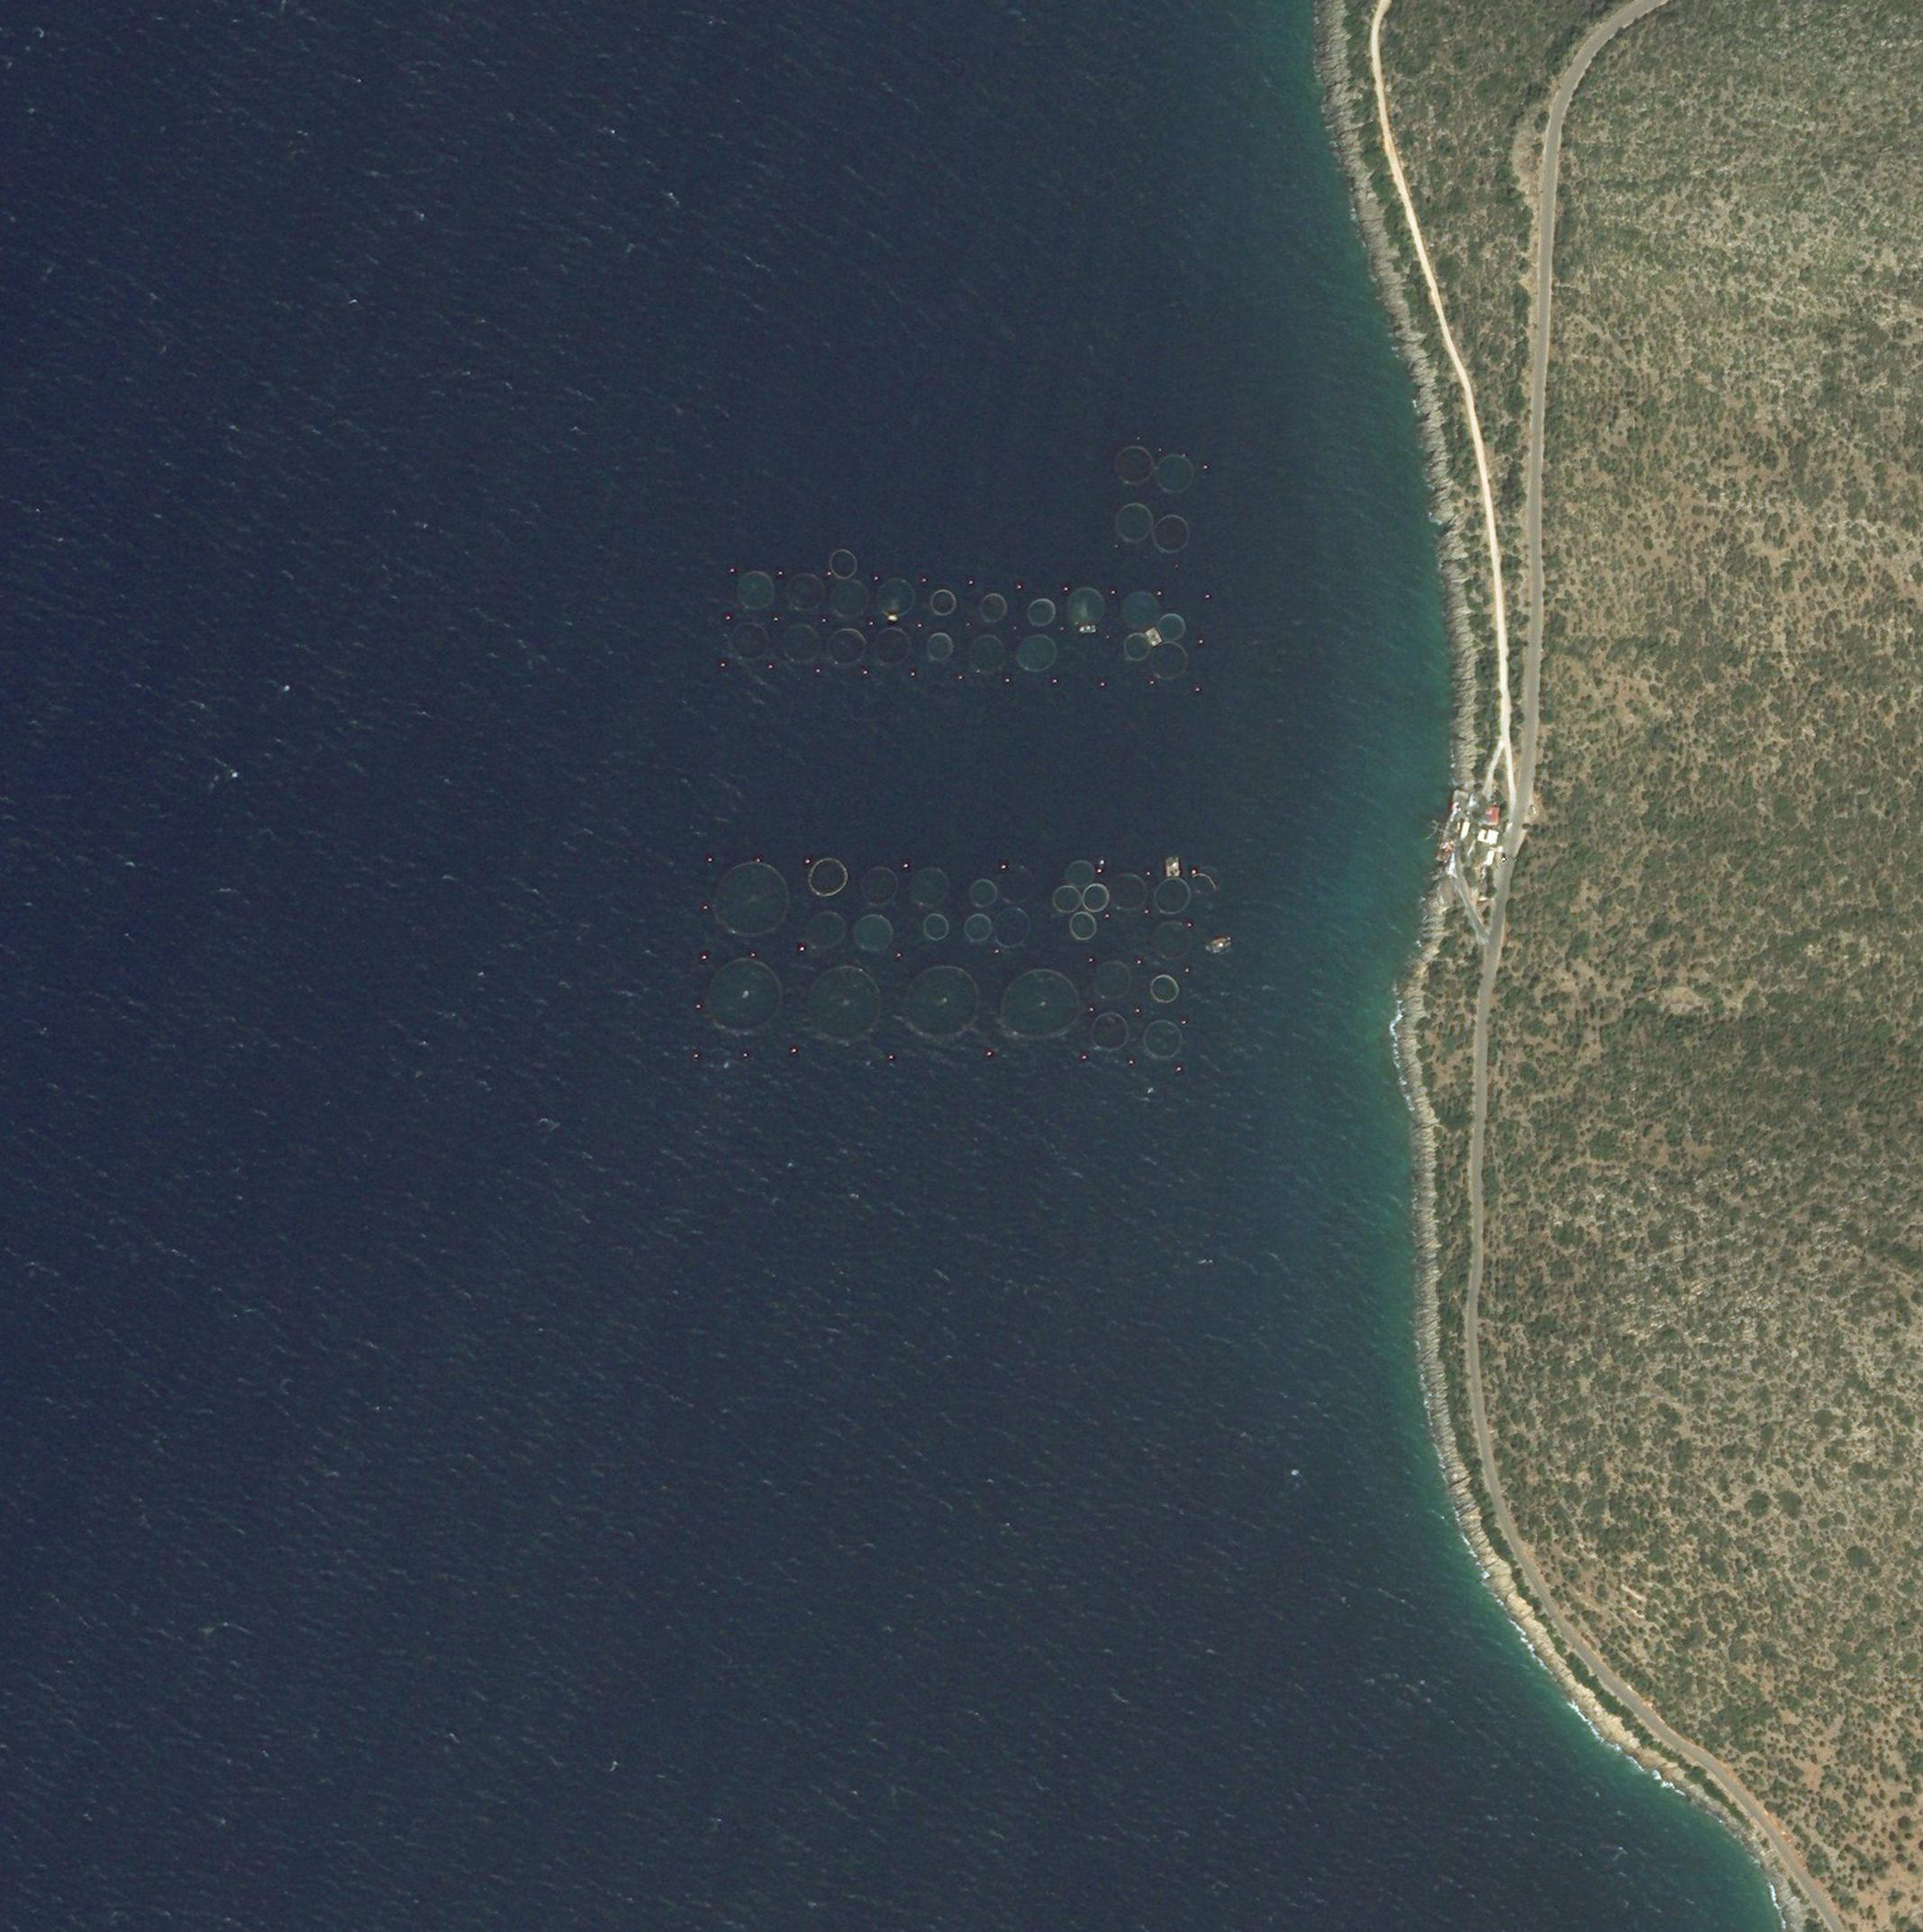c: (805, 967, 882, 1043), (715, 861, 789, 937), (710, 958, 782, 1034), (1002, 969, 1079, 1039), (905, 965, 979, 1037), (909, 868, 951, 909), (785, 572, 828, 611), (780, 623, 822, 662), (1152, 921, 1192, 960), (731, 622, 771, 660), (1115, 446, 1153, 486), (736, 569, 773, 611), (967, 634, 1004, 676), (1016, 636, 1058, 673), (808, 911, 847, 949), (828, 627, 866, 666), (1155, 454, 1194, 493), (852, 914, 893, 951), (1094, 960, 1131, 1000), (1115, 502, 1152, 542), (810, 858, 847, 896), (861, 866, 898, 905), (1090, 1013, 1129, 1050), (1143, 1020, 1182, 1057), (1153, 514, 1190, 553), (873, 623, 909, 664), (1152, 974, 1180, 1004), (925, 632, 954, 660), (979, 594, 1007, 623), (1028, 597, 1057, 627), (923, 912, 949, 940), (930, 588, 956, 616)
